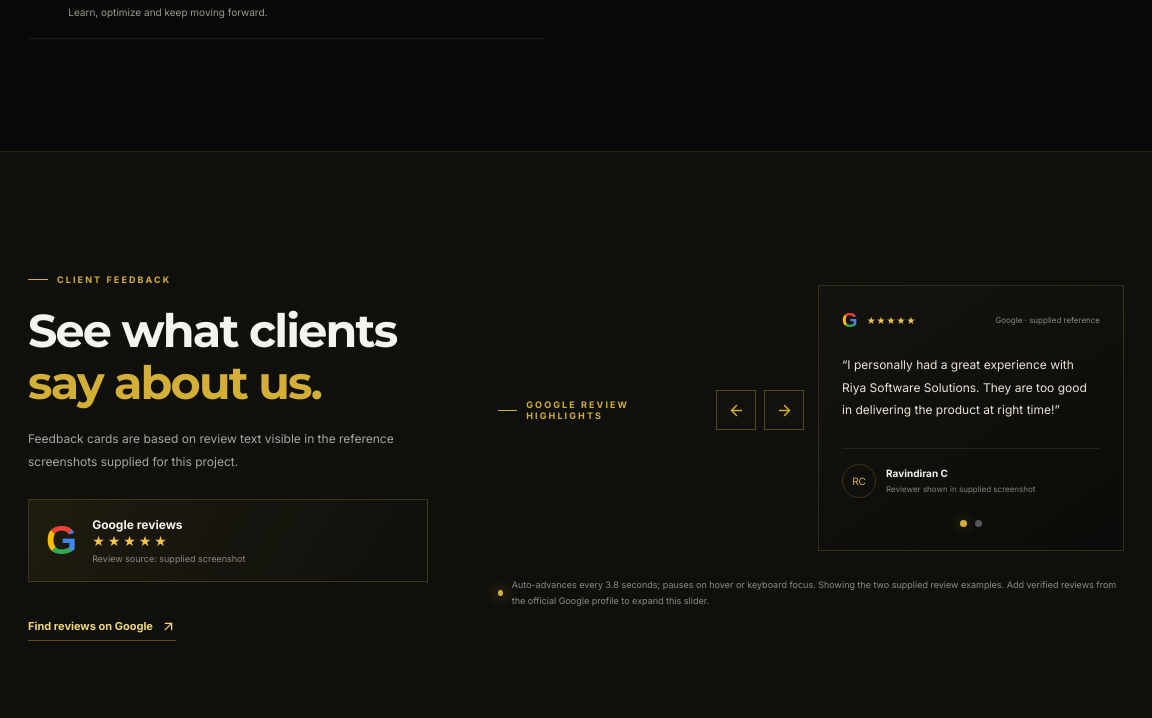
it: Home review carousel › allows manually selecting reviews with the carousel controls
The width and height of the screenshot is (1152, 718).
(page scrolled)
Click the button named "next review".
click(784, 410)  # box [764,390,804,430]
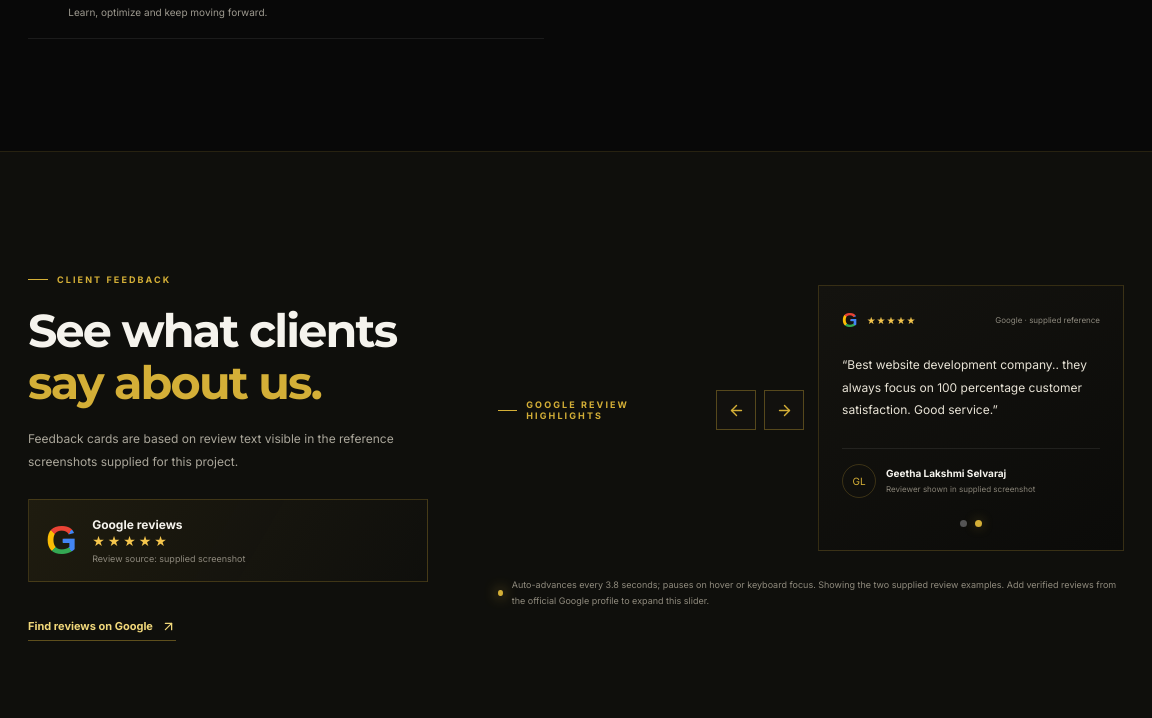
Check: the text "Best website development company" is shown, box [842,357,1087,417]
